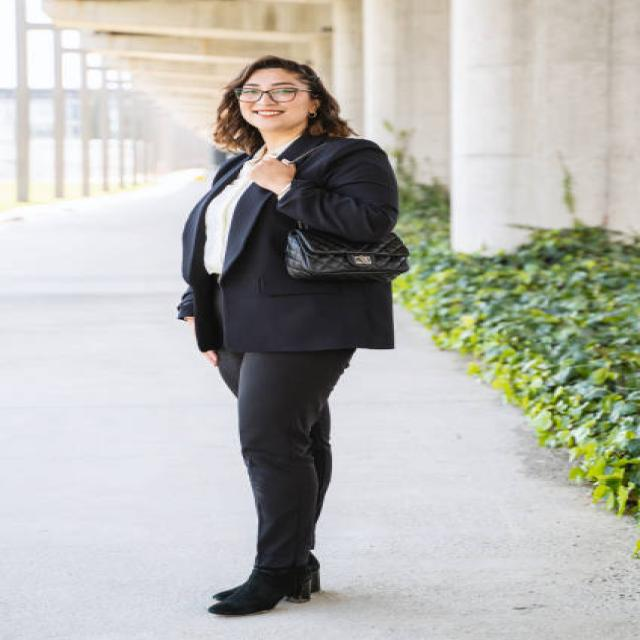Real human 2: (154, 43, 472, 634)
